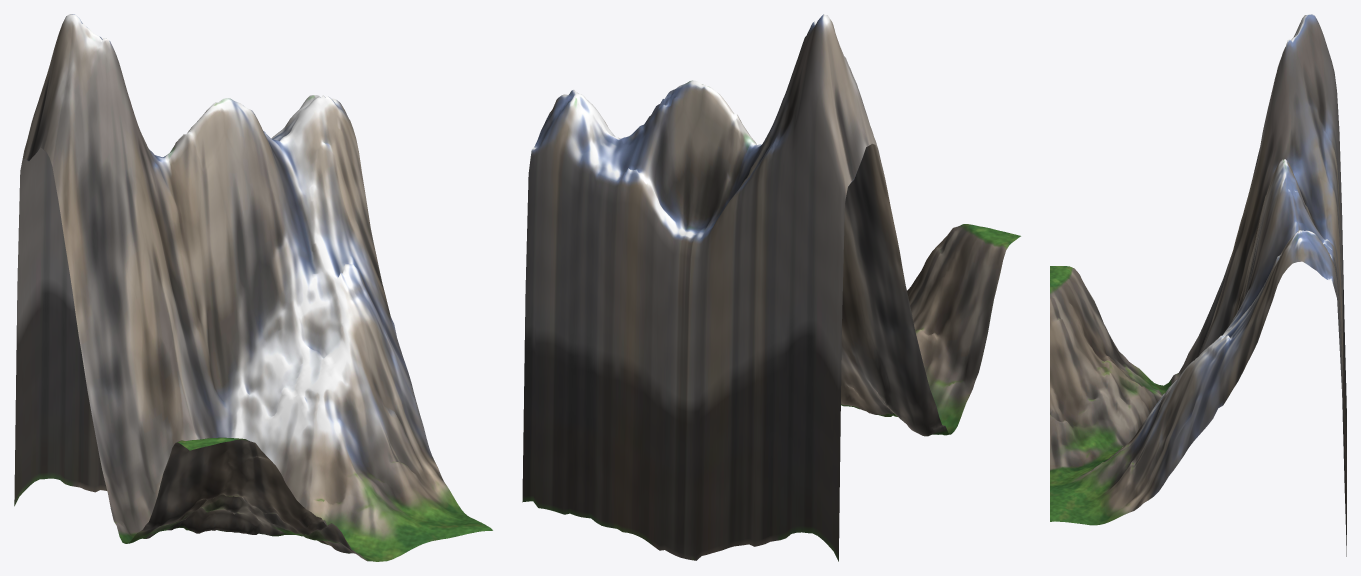
3 renders of one model, left to right at view 1: azimuth 30°, elevation 25°; view 2: azimuth 150°, elevation 25°; view 3: azimuth 270°, elevation 25°, orthographic. The views are drawn at different scales.
Visible parts, largest first — view 1: t128_192; view 2: t128_192; view 3: t128_192.
Part boxes in pixels (bbox=[...]): t128_192: bbox=[14, 14, 492, 561]; t128_192: bbox=[522, 14, 1020, 561]; t128_192: bbox=[1050, 14, 1346, 556].
Bounding box in the file's own units: 64 × 107 × 64.
Materials: 1 (1 with a texture image).
